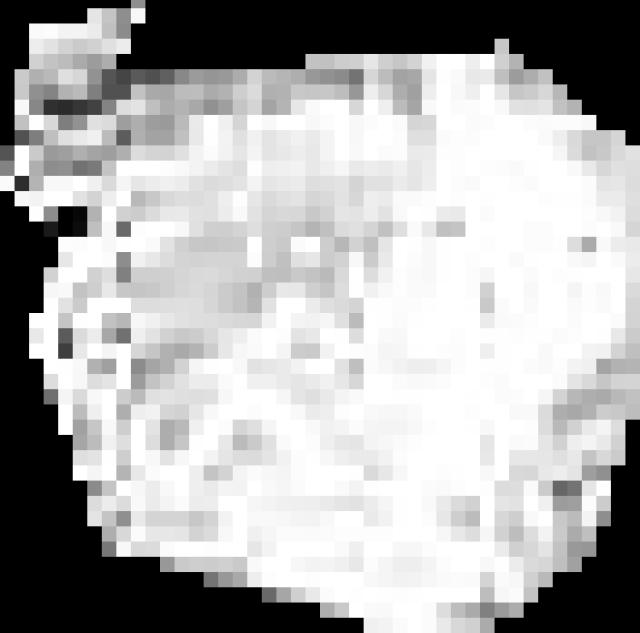tumor_good_chance: (0, 1, 640, 633)
